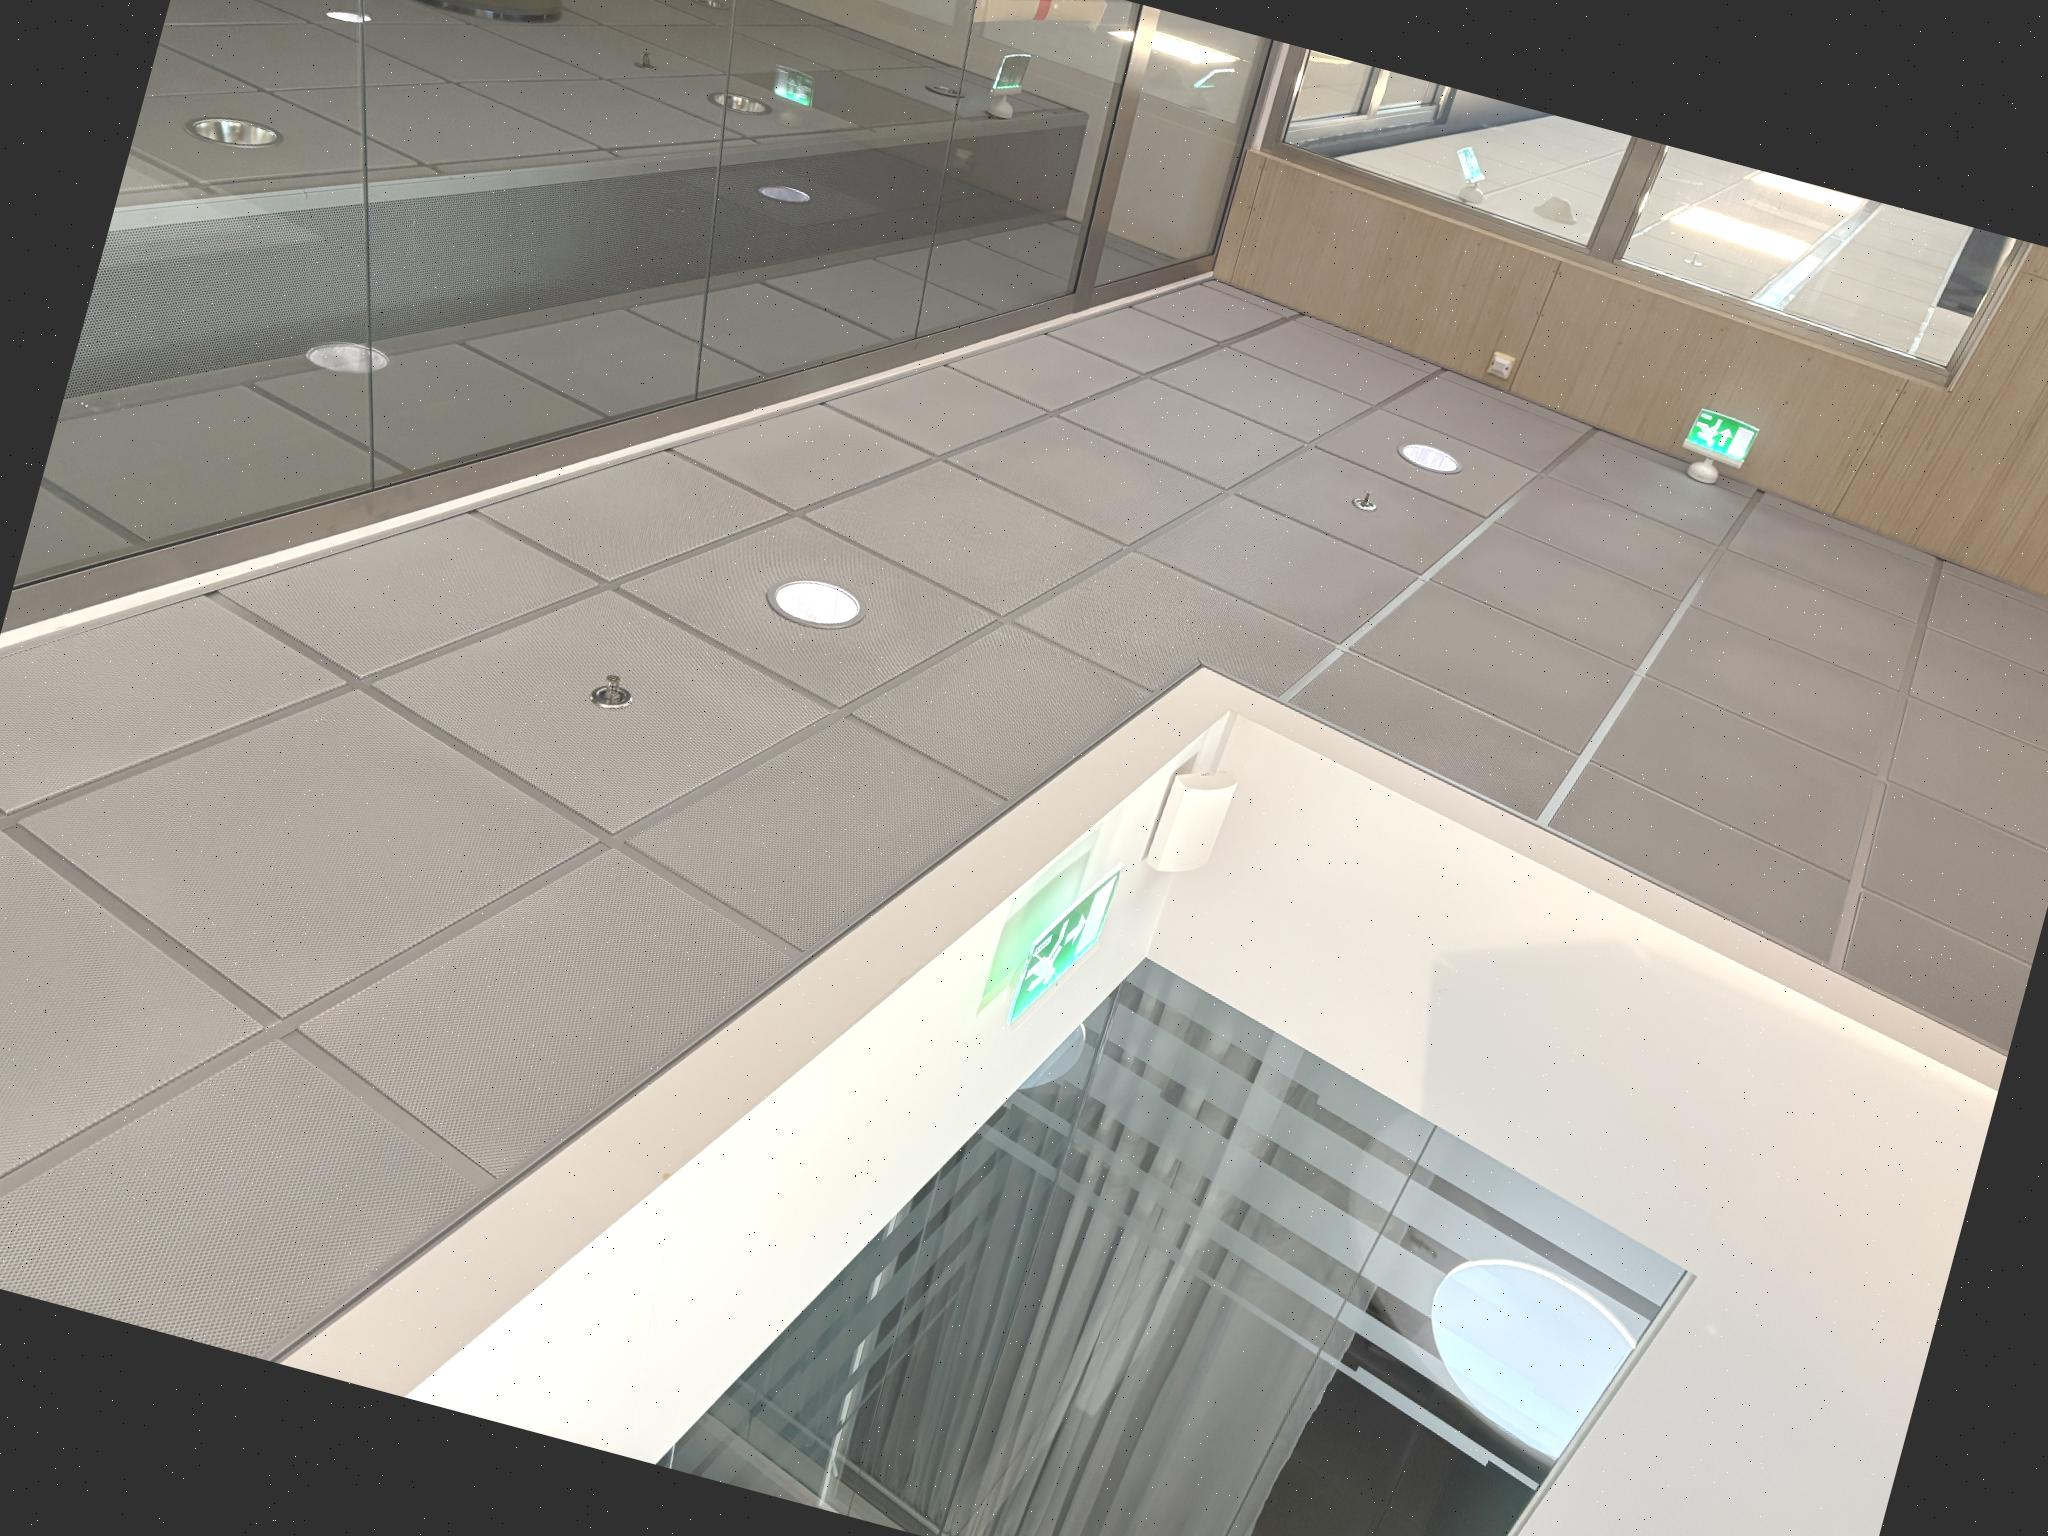exit_sign: (992, 855, 1119, 1042), (1687, 408, 1771, 468)
